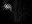person: (4, 2, 11, 9)
